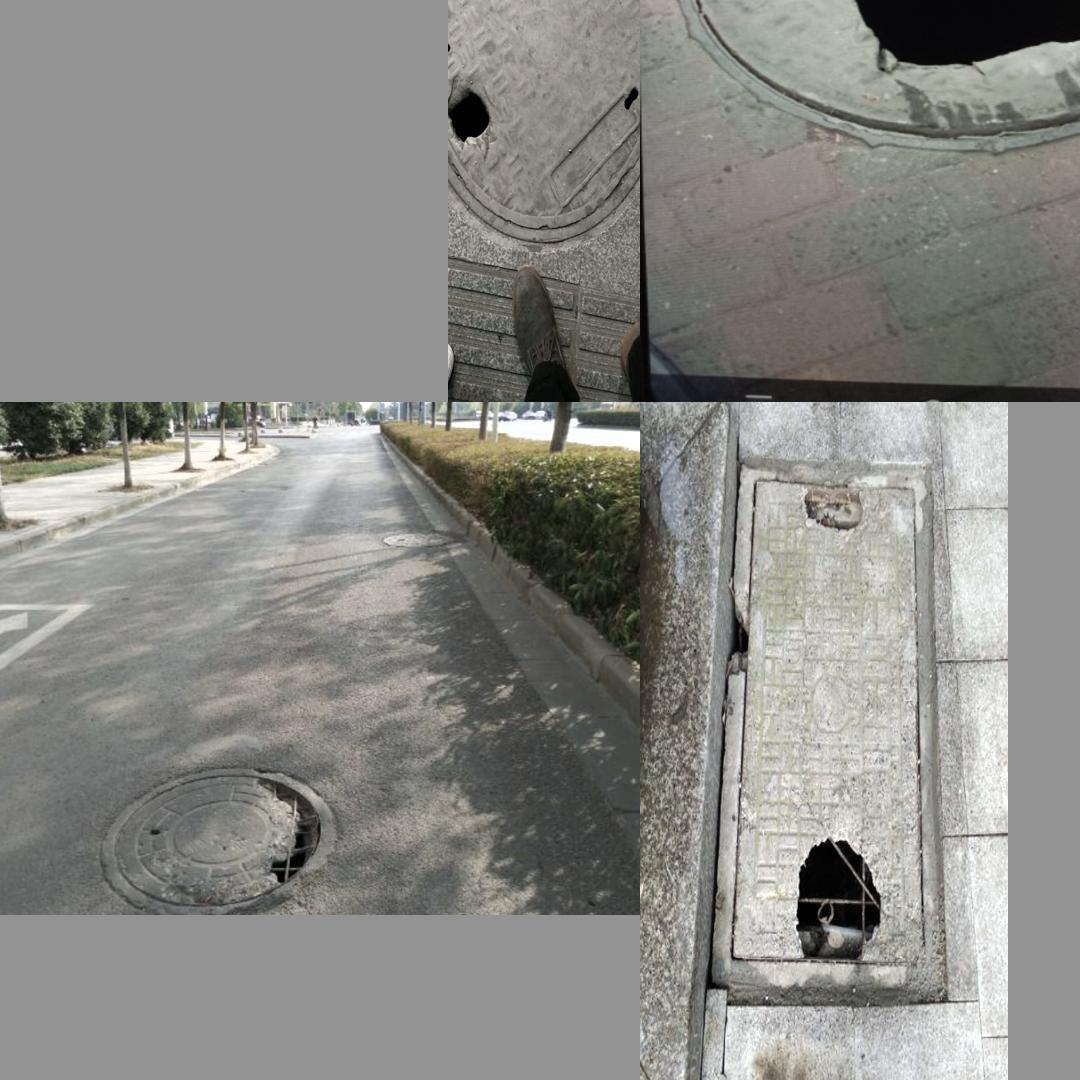broke: (712, 455, 942, 992), (670, 0, 1080, 154), (448, 0, 639, 241), (98, 764, 335, 915)
